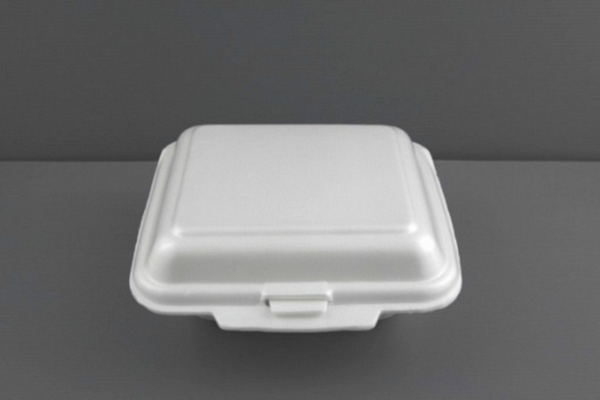Foam Box: (125, 117, 467, 339)
